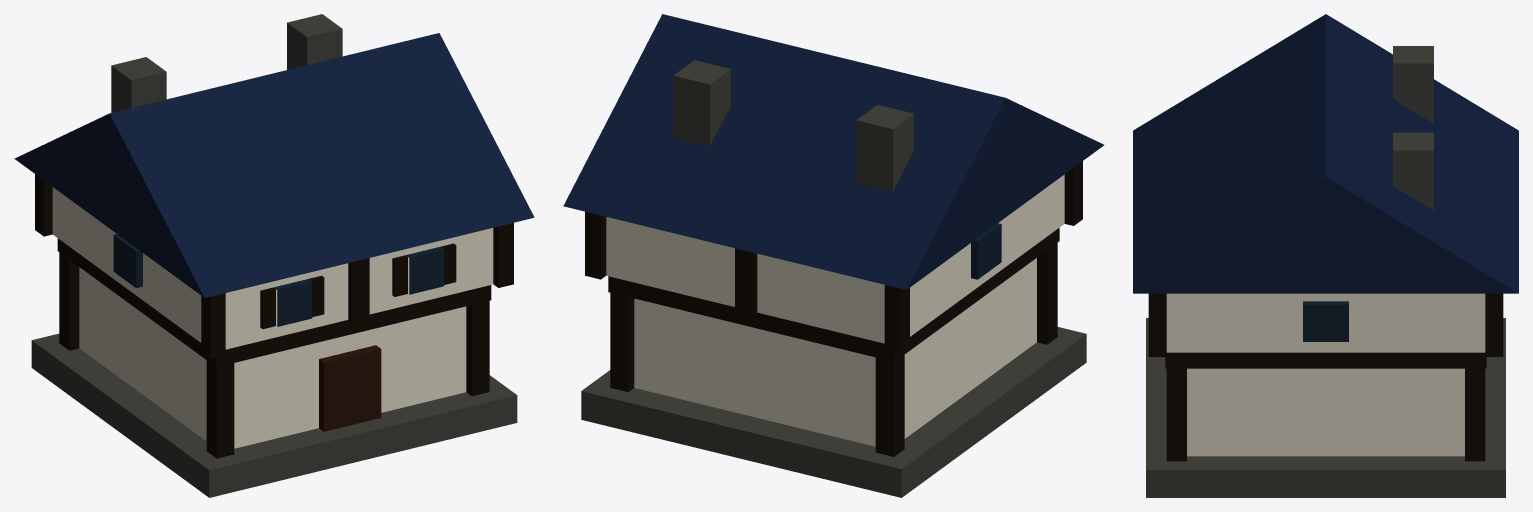
File: house_t2_v2.glb
3 views of the same model, side by side, from view 1: azimuth 30°, elevation 25°; view 2: azimuth 150°, elevation 25°; view 3: azimuth 270°, elevation 25° (orthographic). The views are drawn at different scales.
Parts seen in each view (by area): view 1: house_t2_v2; view 2: house_t2_v2; view 3: house_t2_v2.
Part boxes in pixels (<box>): house_t2_v2: <box>14,14,534,497</box>; house_t2_v2: <box>563,14,1103,497</box>; house_t2_v2: <box>1133,14,1518,497</box>.
Bounding box in the file's own units: 0.75 × 0.7 × 0.75.
1 material, 1 textured.
